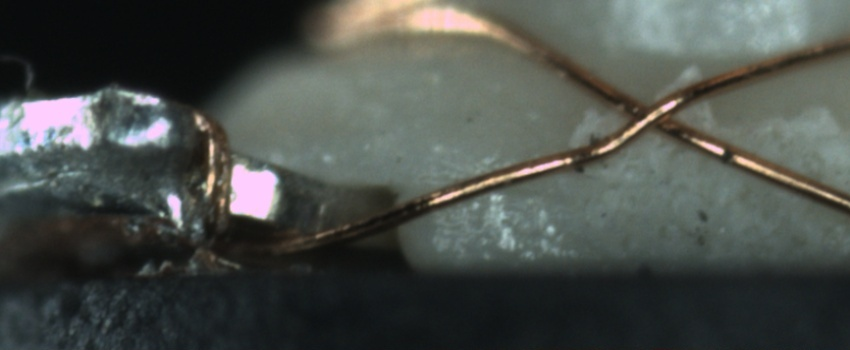CL: (599, 79, 696, 144)
TE: (178, 96, 246, 245)
